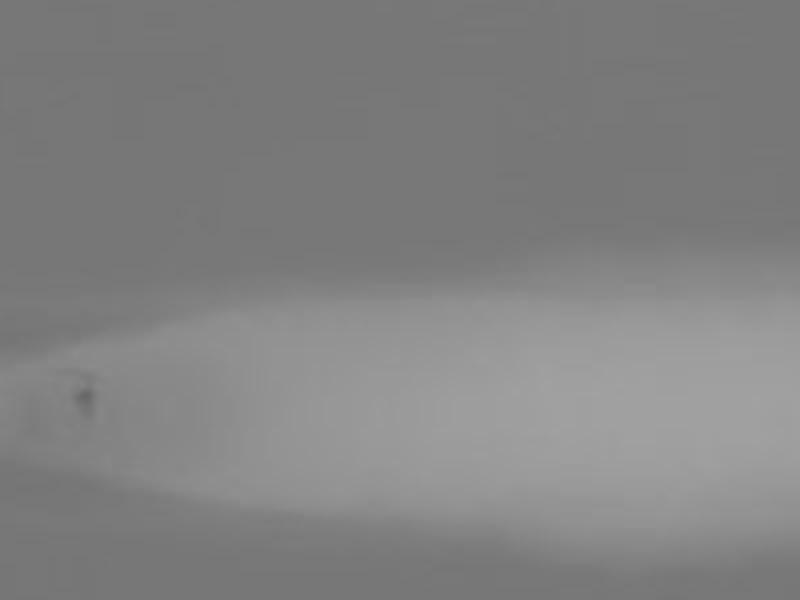defect: (72, 387, 98, 422)
